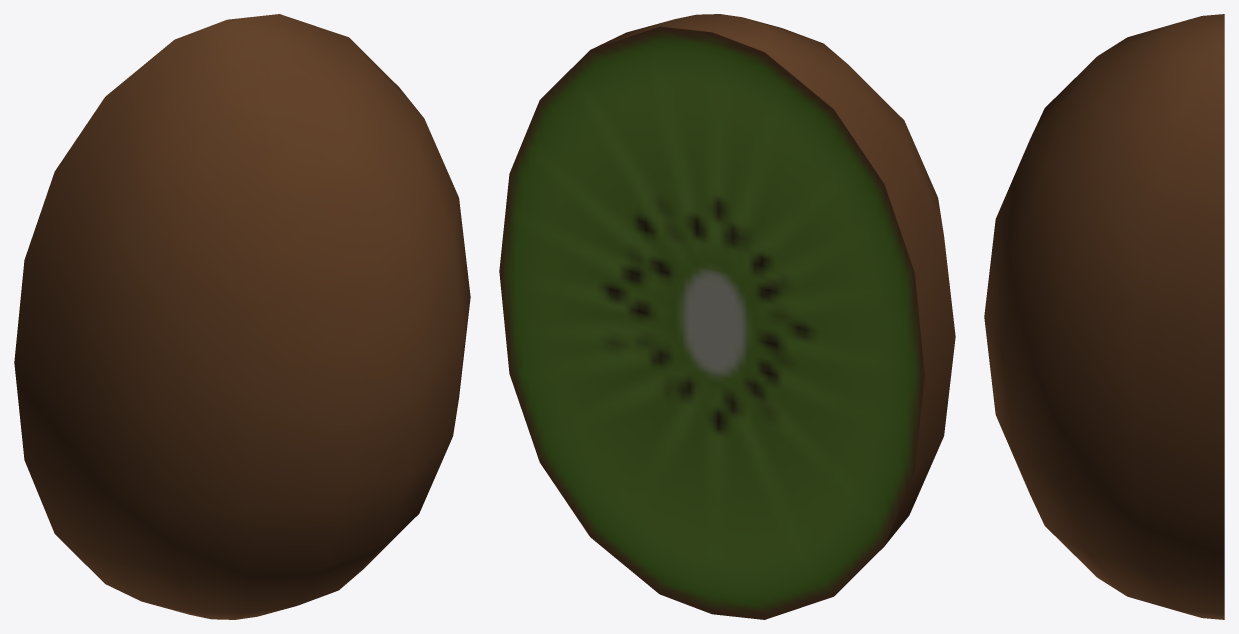
The model's file is kiwi.glb.
3 renders of one model, left to right at view 1: azimuth 30°, elevation 25°; view 2: azimuth 150°, elevation 25°; view 3: azimuth 270°, elevation 25°, orthographic. The views are drawn at different scales.
Parts seen in each view (by area): view 1: geometry_0; view 2: geometry_0; view 3: geometry_0.
Boxes of the visible parts, <box> form: geometry_0: <box>14,14,470,619</box>; geometry_0: <box>499,14,955,619</box>; geometry_0: <box>984,14,1224,619</box>.
Size of the model in its own units: 0.26 by 0.3398 by 0.13.
1 material, 1 textured.
